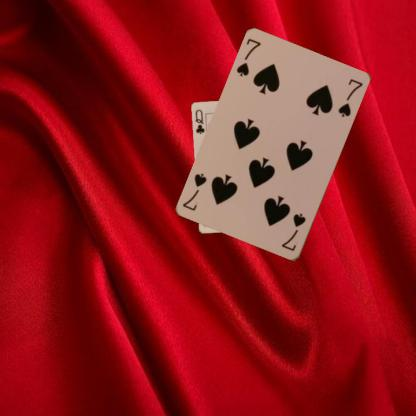7s: (233, 36, 262, 78), (279, 211, 307, 253)
Qc: (193, 107, 206, 136)
